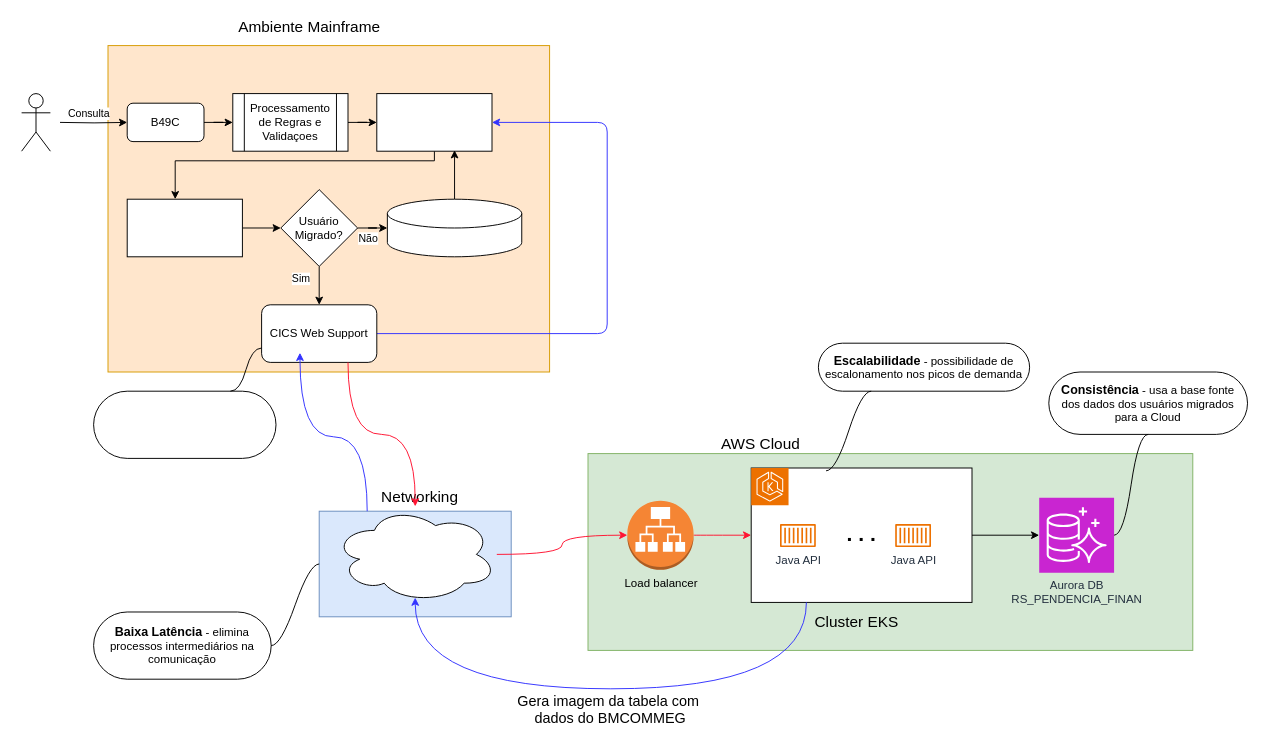
This 1264x742 diagram has some shape labels left out. The shapes that lost their labels are listed below. From the top down, each one's centre as x and y in pixels, then its label:
At [35,122]: "Usuário".
At [434,122]: "PEFIN".
At [184,227]: "BNCONMEG".
At [454,227]: "RS_PENDENCIA_FINAN".
At [184,424]: "Redução de MIPS - elimina a necessidade de processamento no OSGI".
At [415,553]: "Rede SERASA".
